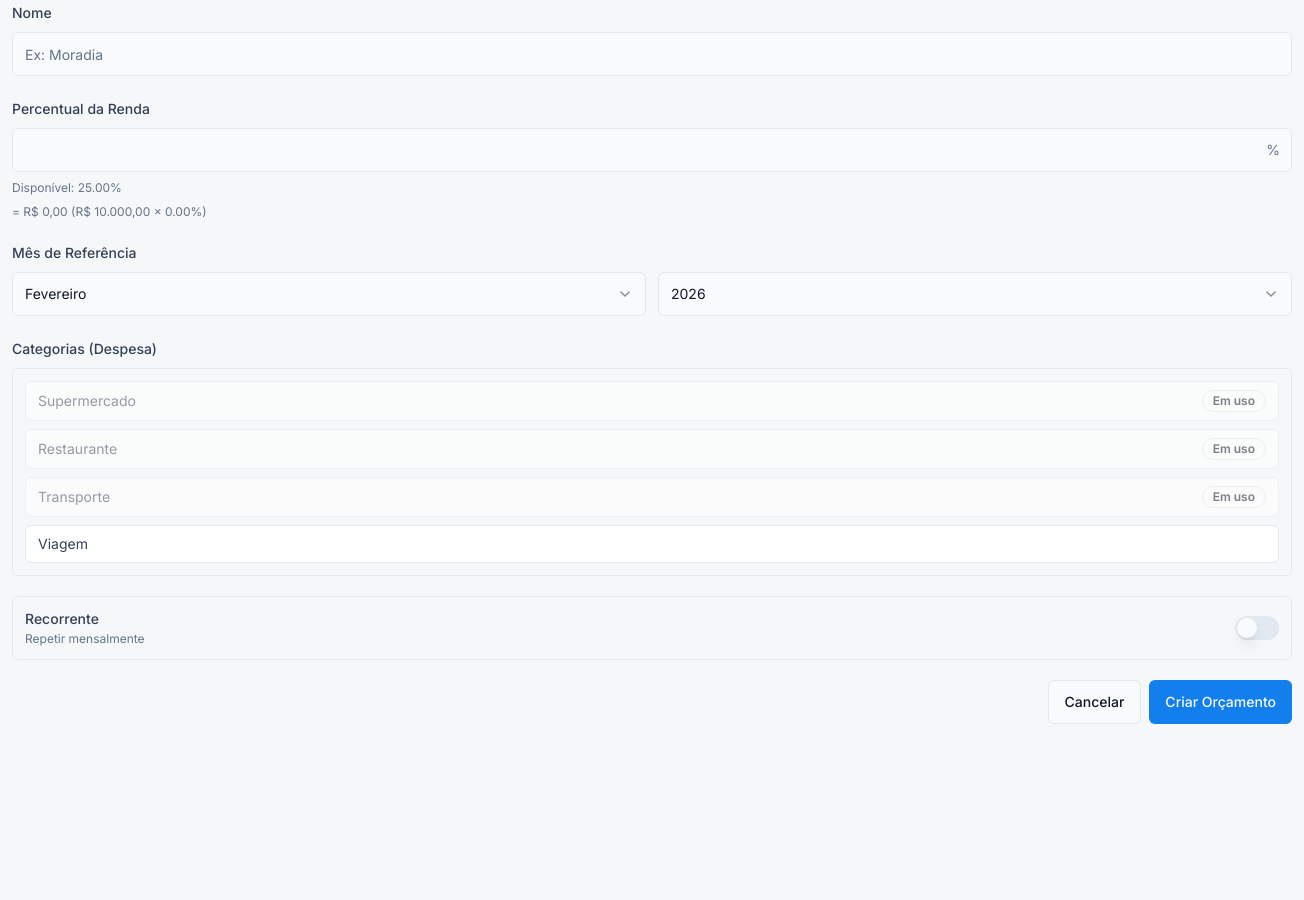
BudgetForm › should show validation errors for percentage out of range
Type "Orçamento Teste" into the field labelled "Nome" at point(652, 54), box [12, 32, 1292, 76]
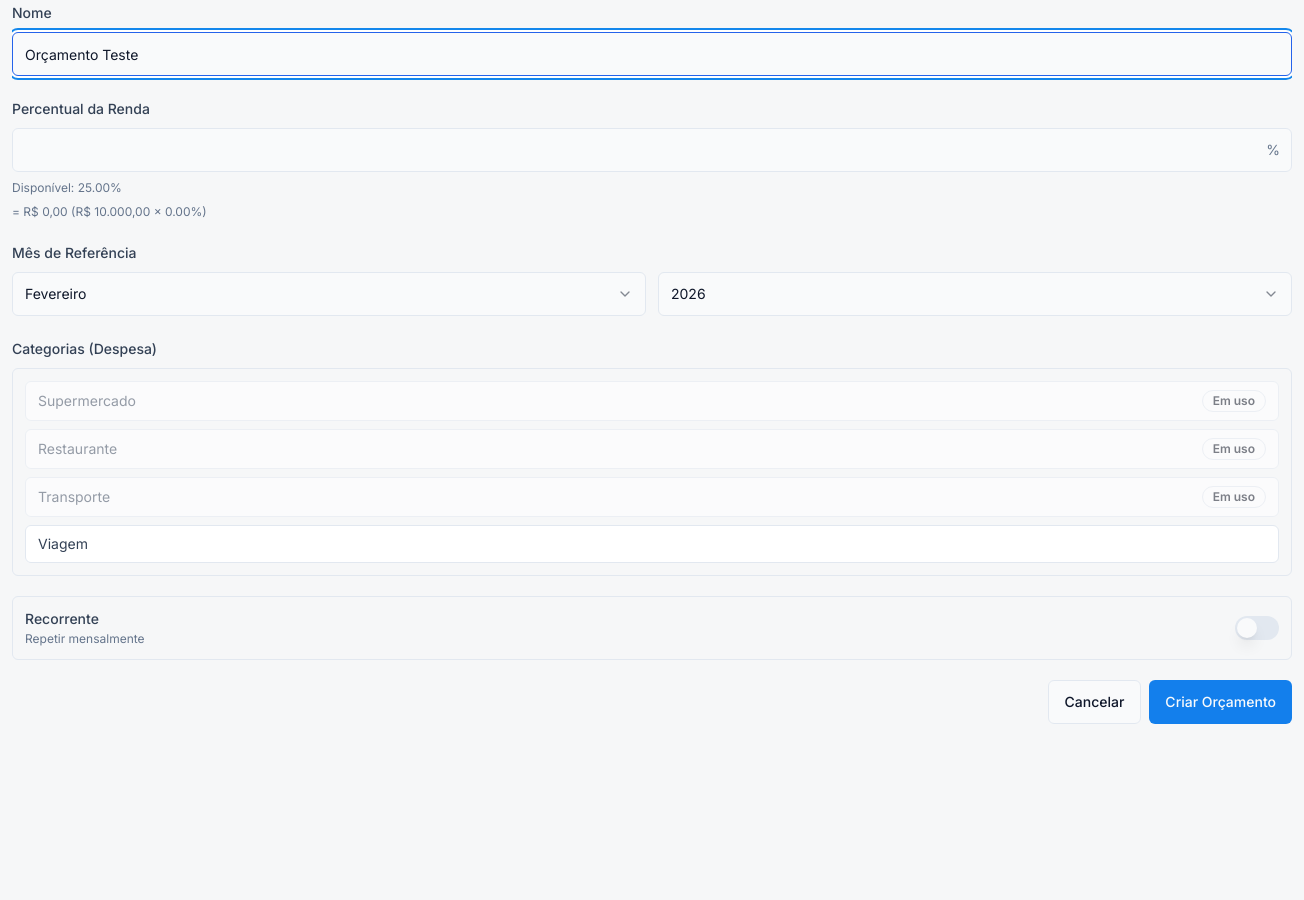
Type "26" into the number field labelled "Percentual da Renda" at point(652, 150), box [12, 128, 1292, 172]
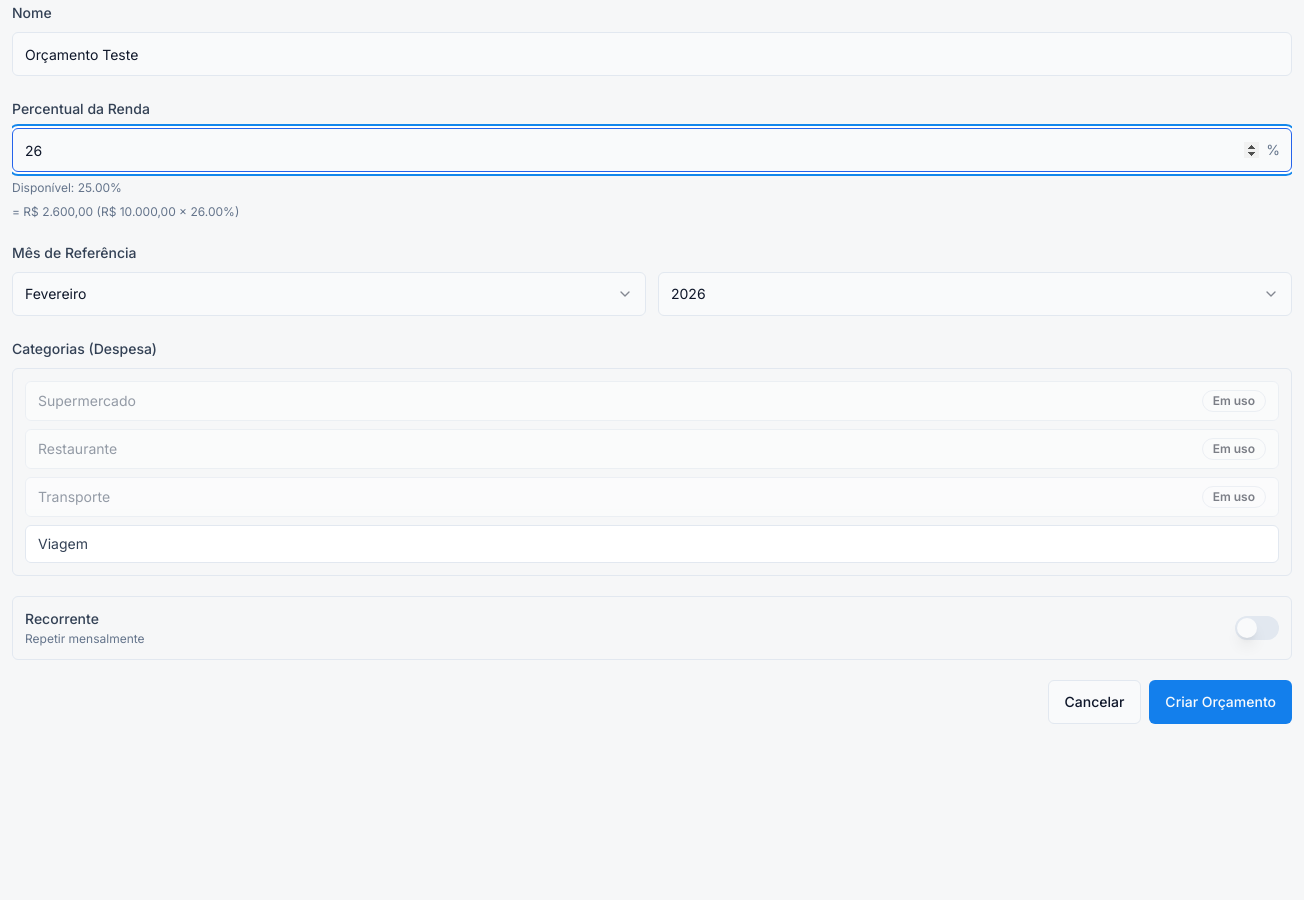
Click the button "Viagem" at point(63, 544), box [25, 525, 1279, 563]
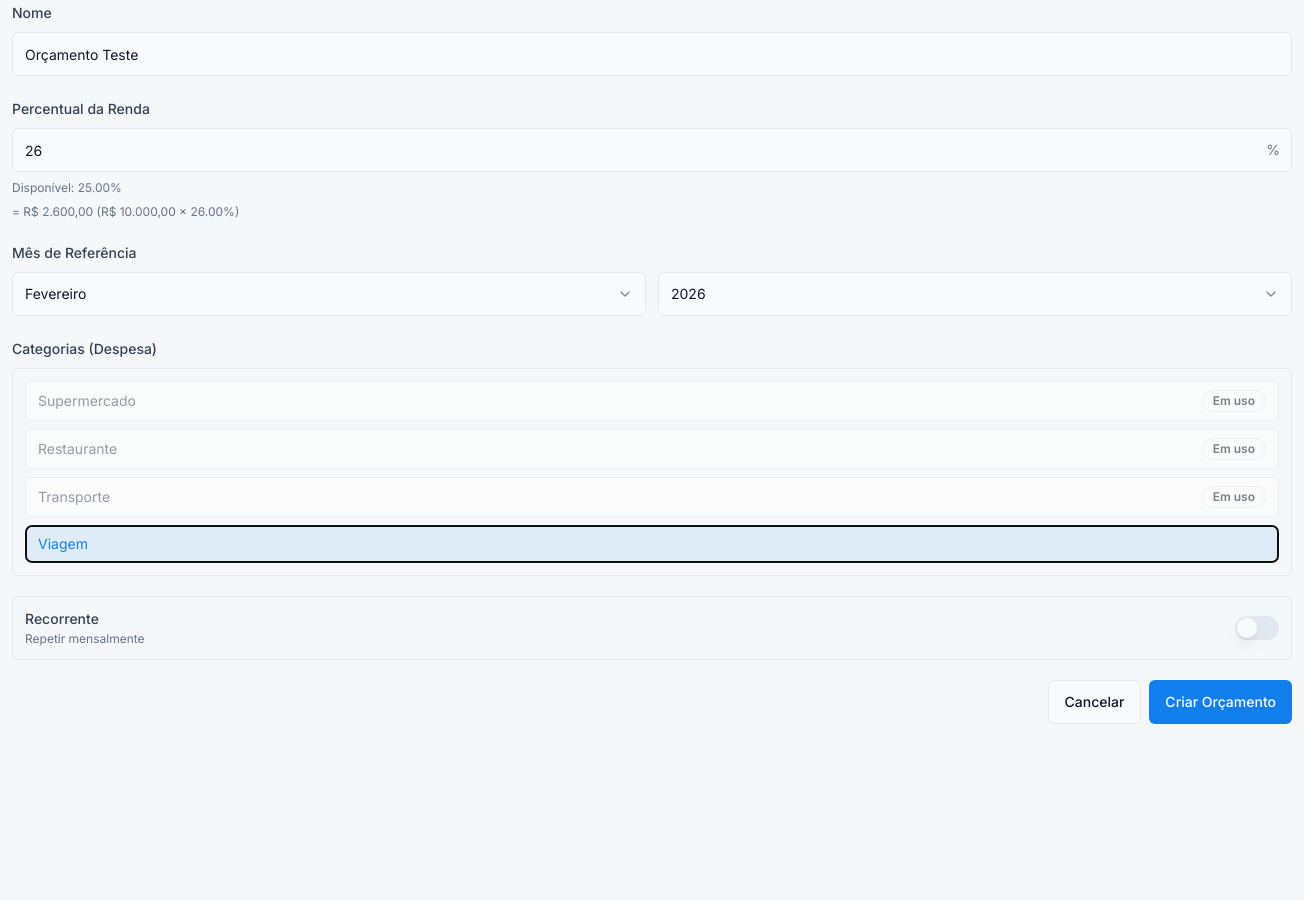
Click the button "Criar Orçamento" at point(1221, 702), box [1149, 680, 1292, 724]
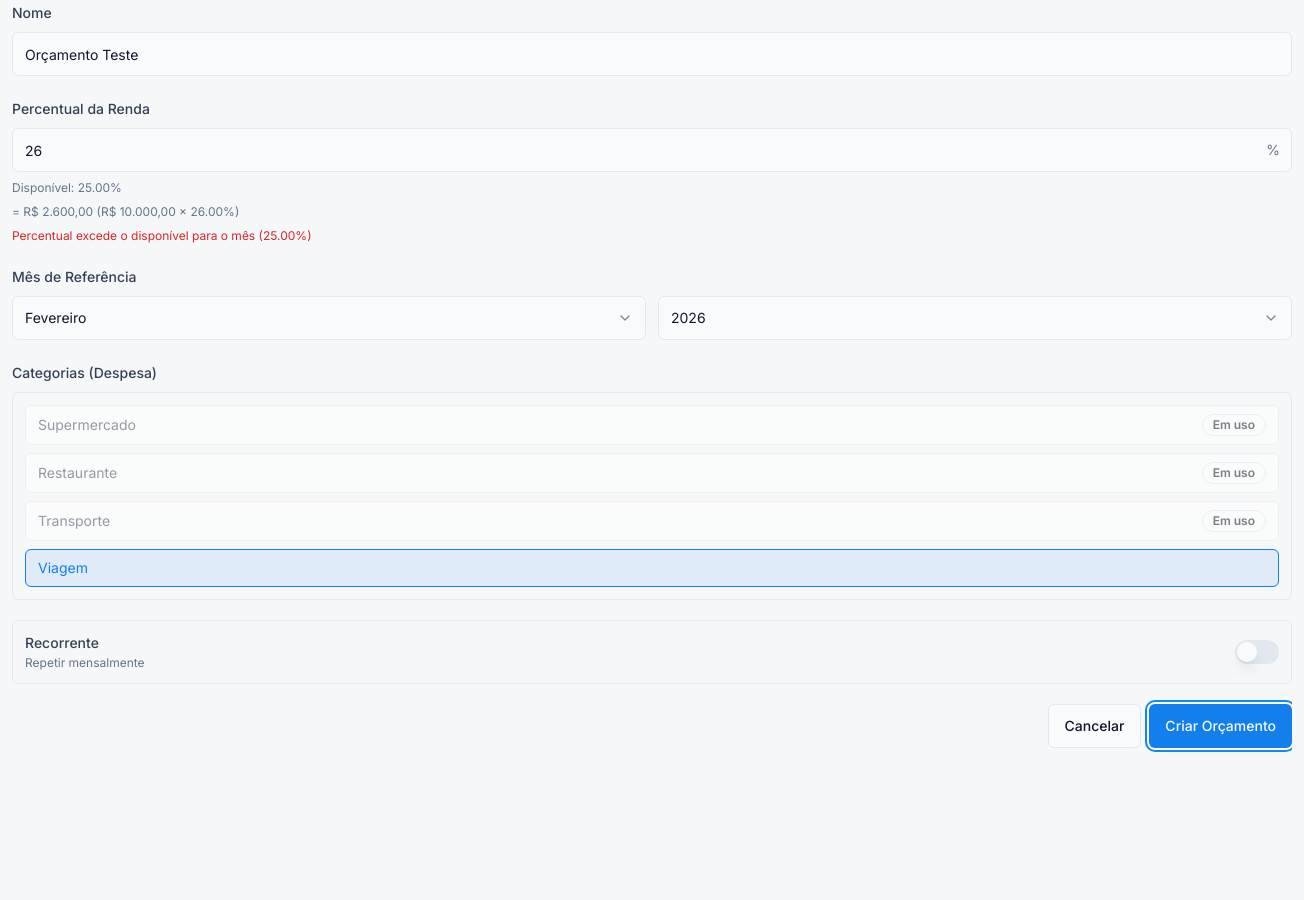
Now the text "Percentual excede o disponível para o mês (25.00%)" is shown, box [12, 228, 312, 243]
